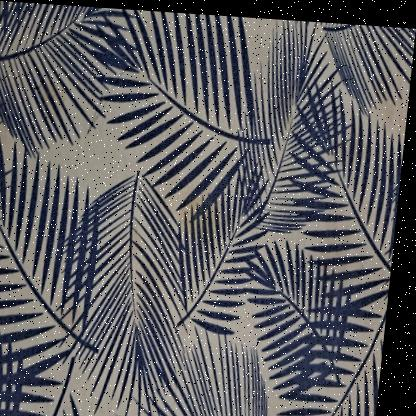spot: (173, 168, 241, 263)
